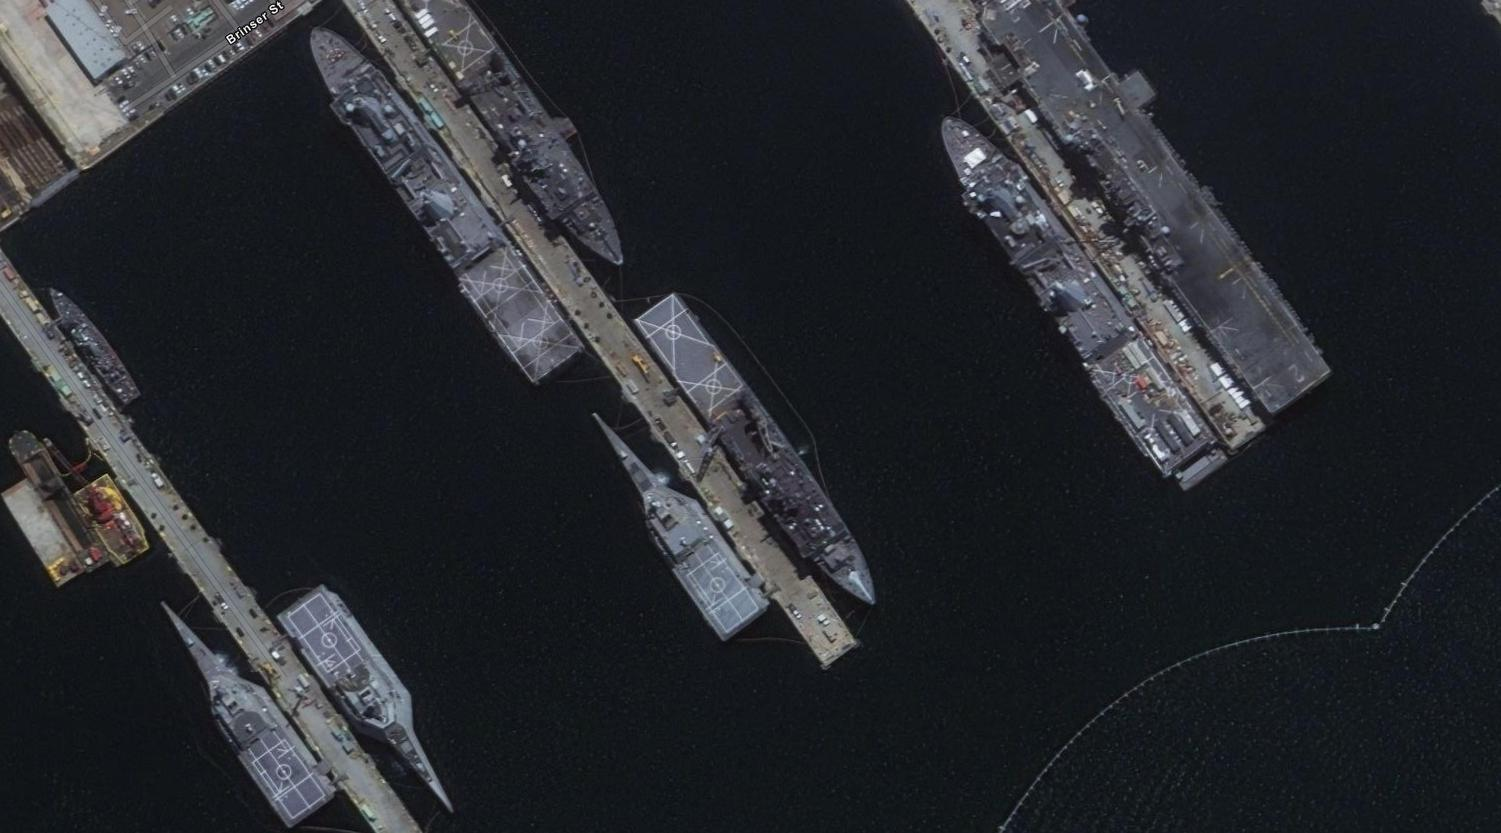amphiby: (938, 111, 1235, 500), (299, 17, 589, 395), (628, 270, 887, 612)
littoral combat ship: (271, 570, 466, 820), (146, 591, 344, 830), (586, 405, 776, 651)
